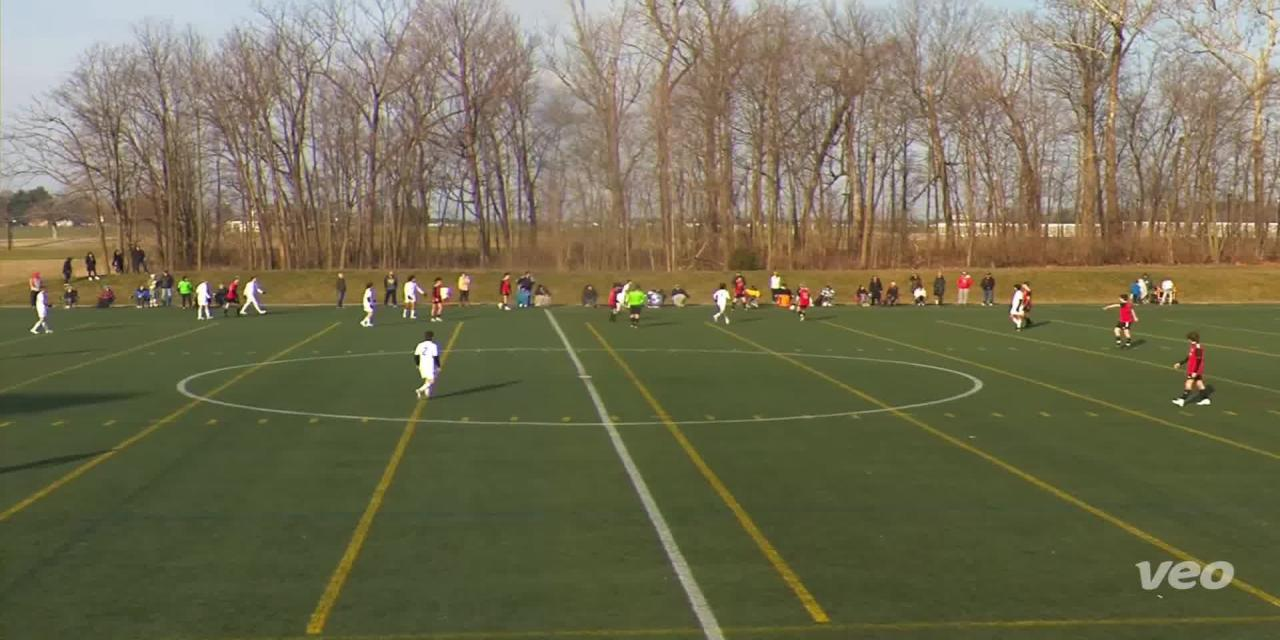sports ball: (787, 301, 799, 317)
